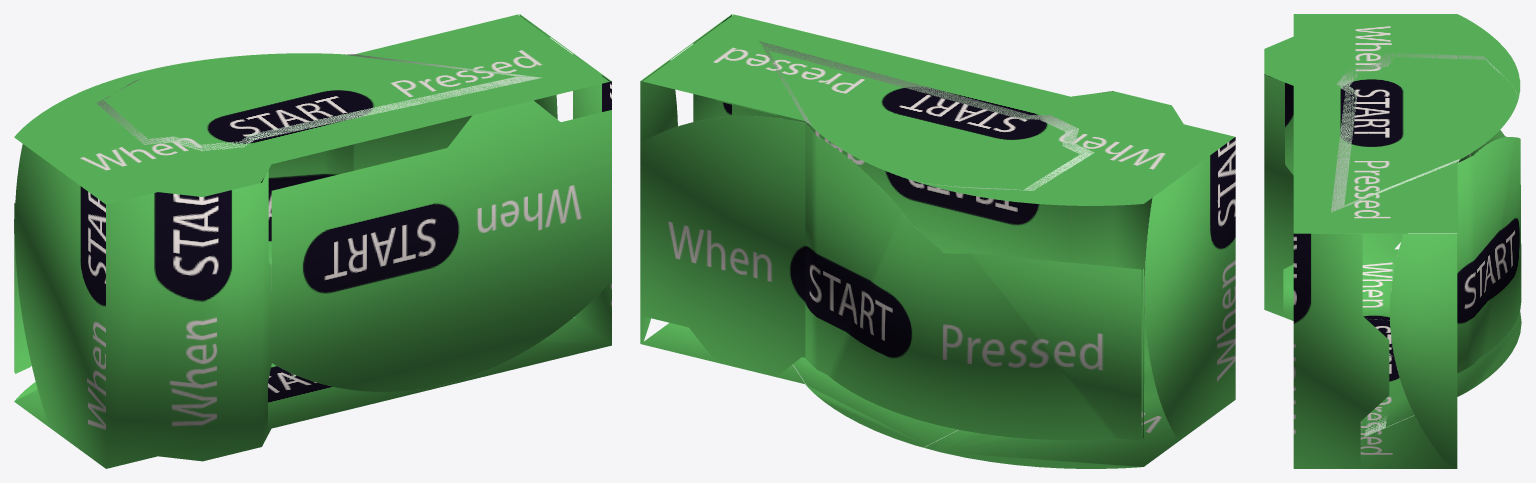
The model's file is Tombol start 1.fbx.
3 views of the same model, side by side, from view 1: azimuth 30°, elevation 25°; view 2: azimuth 150°, elevation 25°; view 3: azimuth 270°, elevation 25° (orthographic). The views are drawn at different scales.
Parts seen in each view (by area): view 1: Curve; view 2: Curve; view 3: Curve.
Boxes of the visible parts, x1,y1,x2,y2 form: Curve: (14, 14, 611, 468); Curve: (640, 14, 1235, 468); Curve: (1264, 14, 1521, 468).
Size of the model in its own units: 28.04 by 14 by 13.87.
